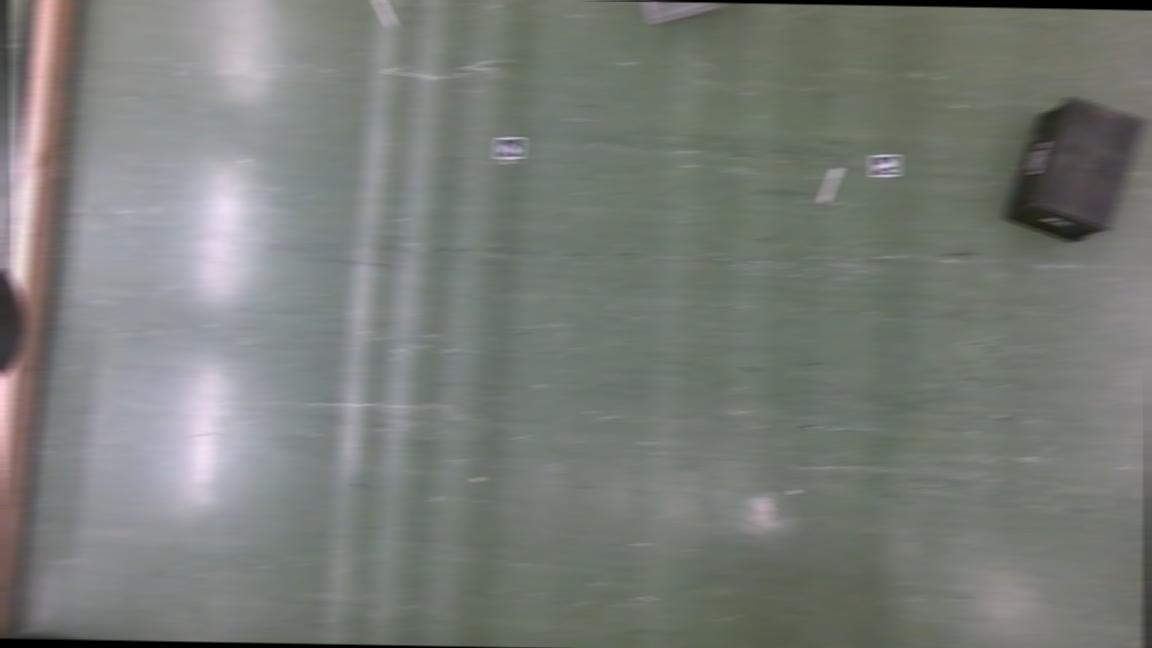probes: (817, 168, 841, 206), (373, 0, 395, 27)
rako: (1002, 96, 1146, 247)
